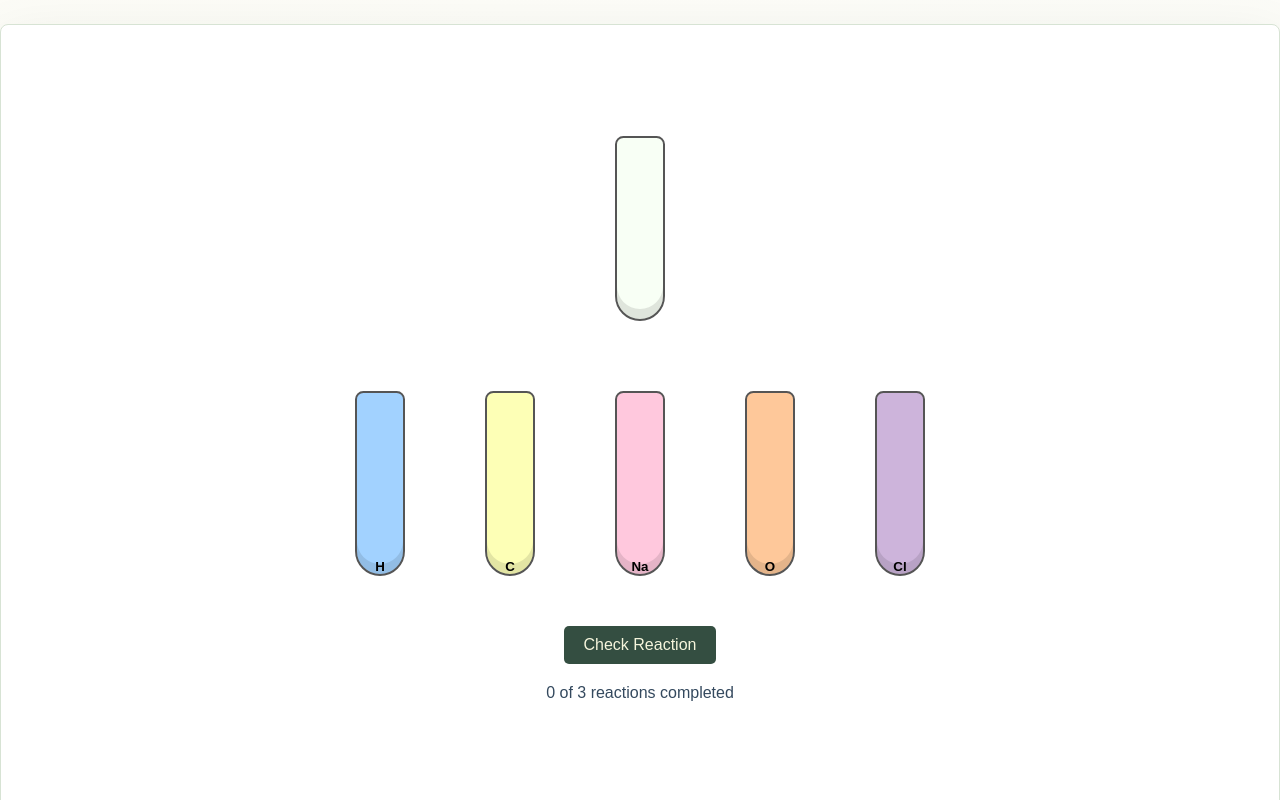
Test: checks a correct water reaction
The width and height of the screenshot is (1280, 800).
Click the button named "select h" at (380, 484), box [355, 391, 405, 576]
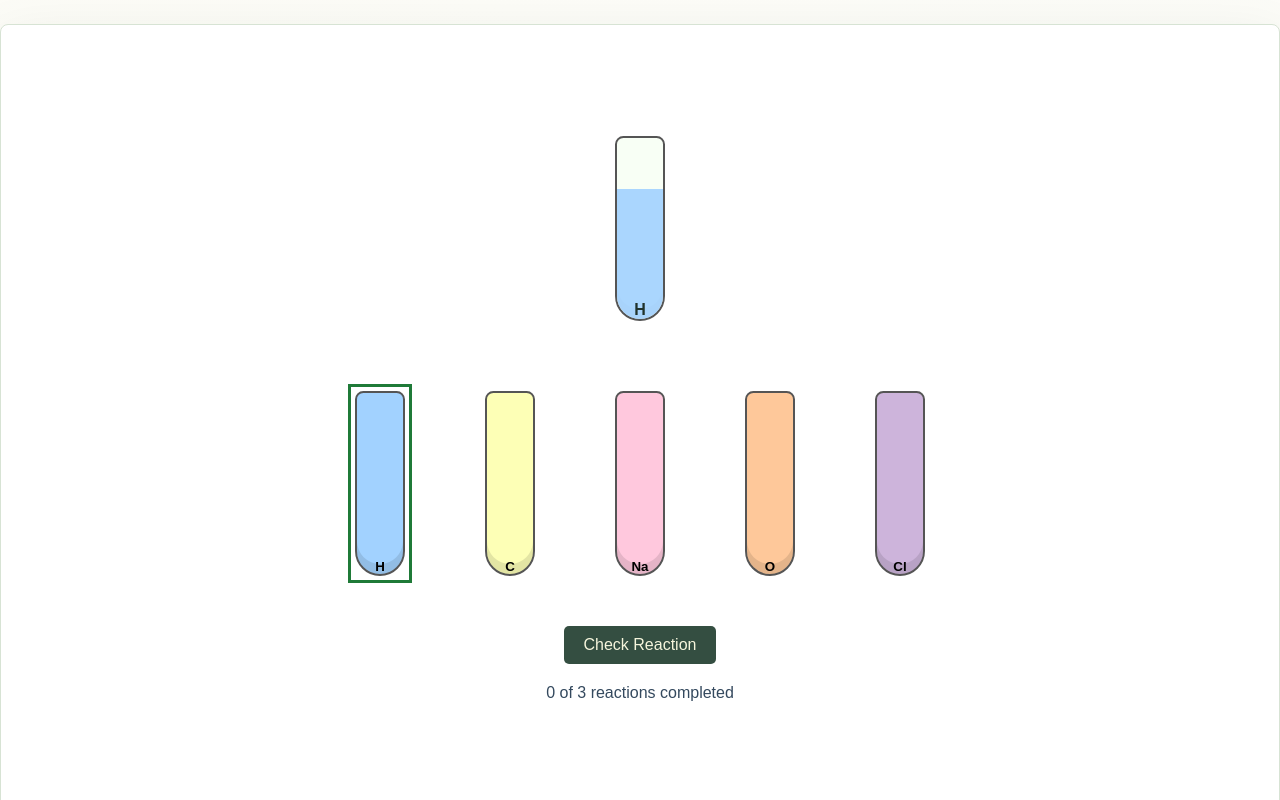
Click the button named "select o" at (770, 484), box [745, 391, 795, 576]
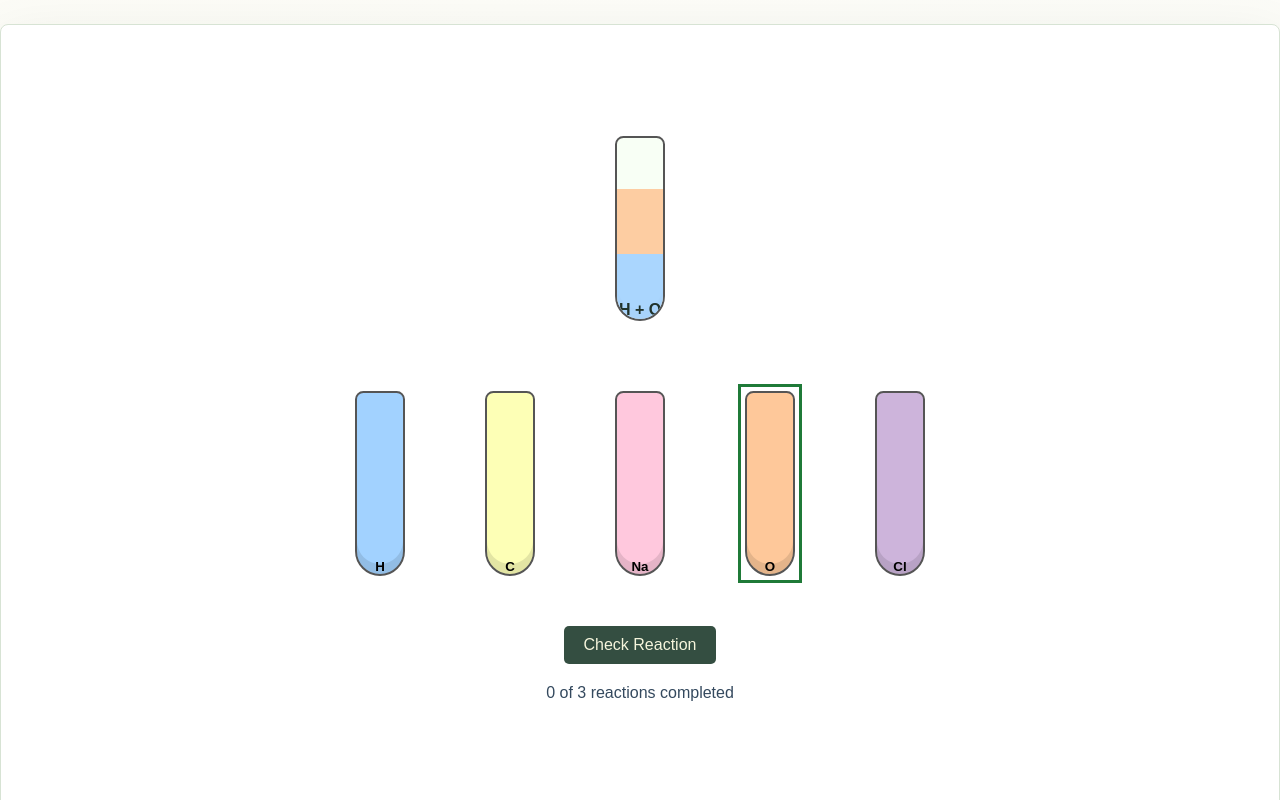
Now the text with test id "selected-elements" reads "H + O", box [619, 301, 661, 318]
Click the button "Check Reaction" at (640, 645), box [564, 626, 716, 664]
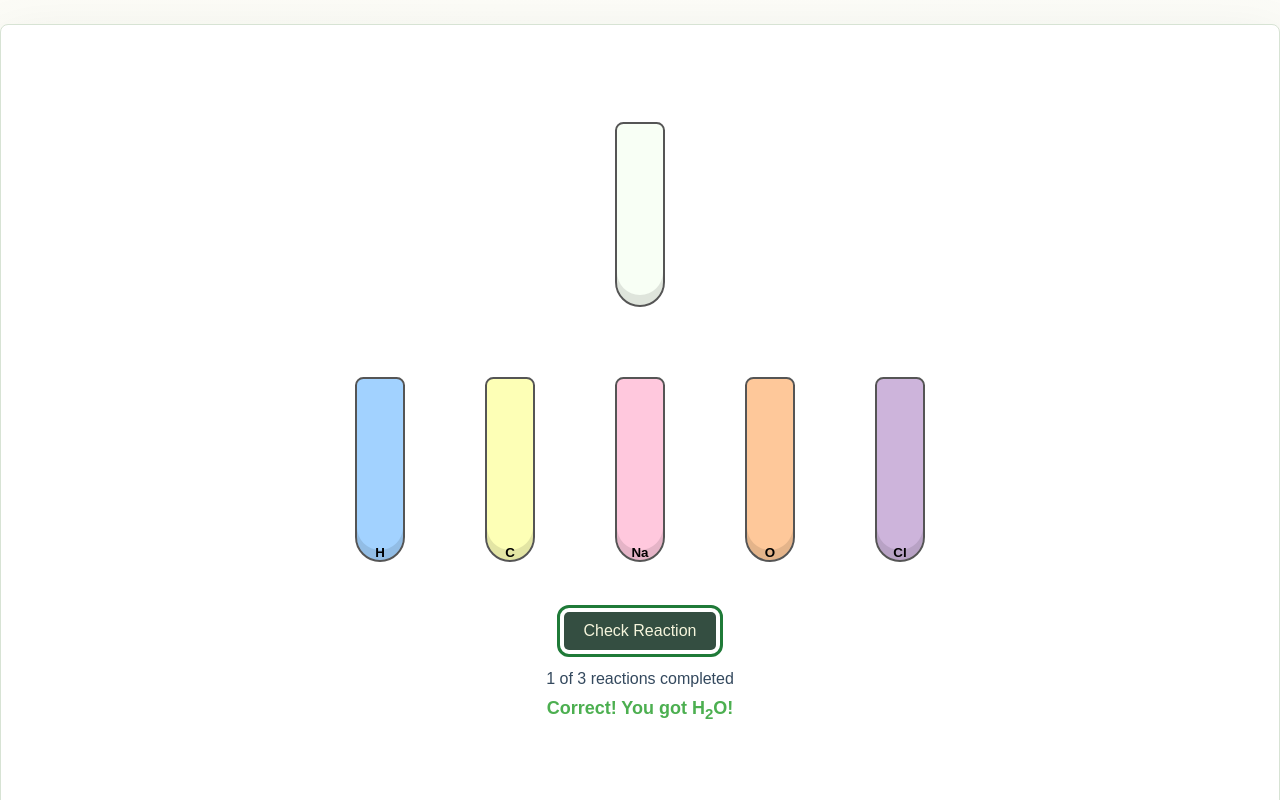
Now the message reads "Correct! You got H2O!", box [547, 698, 733, 726]
Now the text with test id "reaction-progress" reads "1 of 3 reactions completed", box [546, 670, 734, 698]
